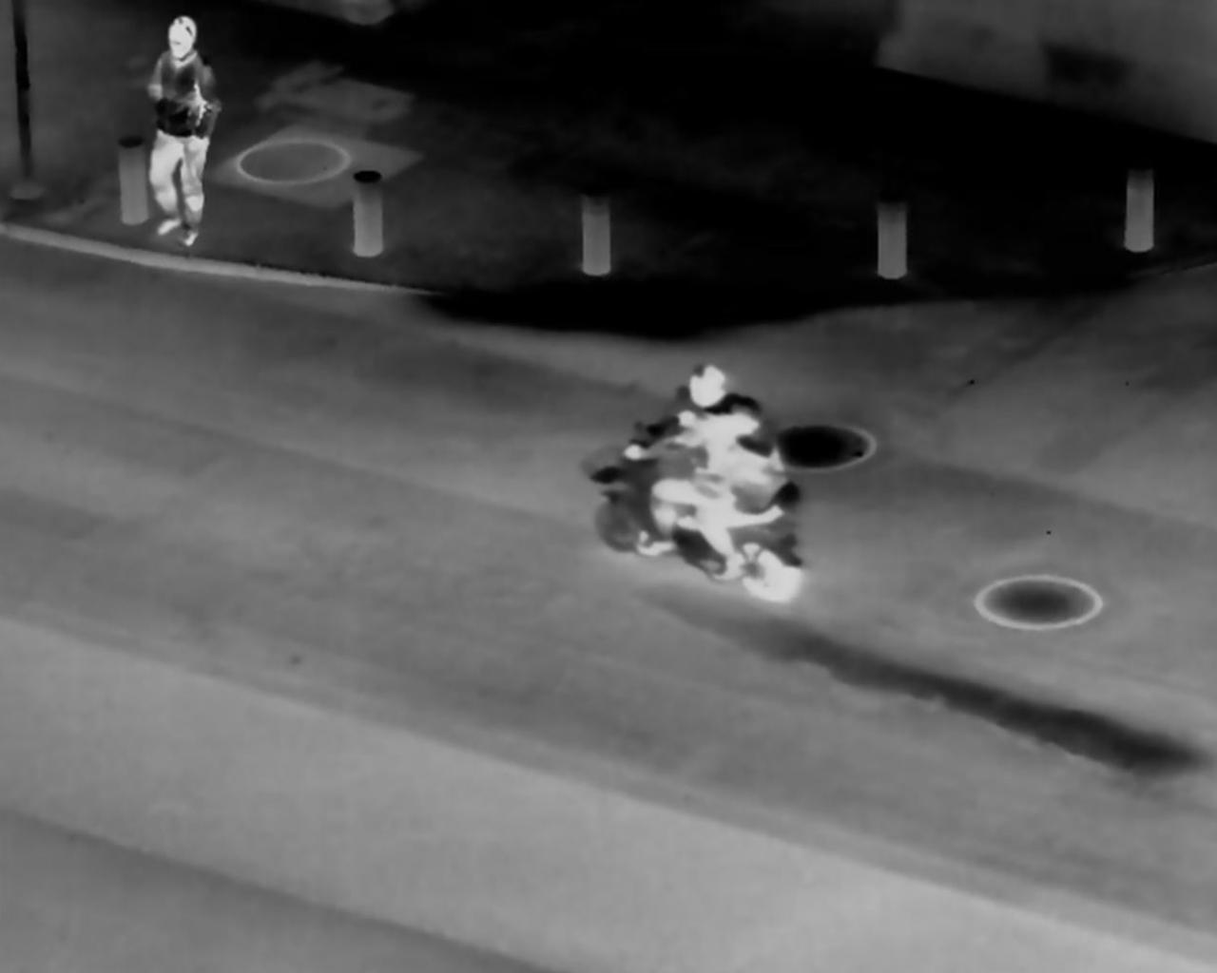person: (629, 359, 733, 561), (134, 14, 222, 244), (720, 391, 785, 587)
